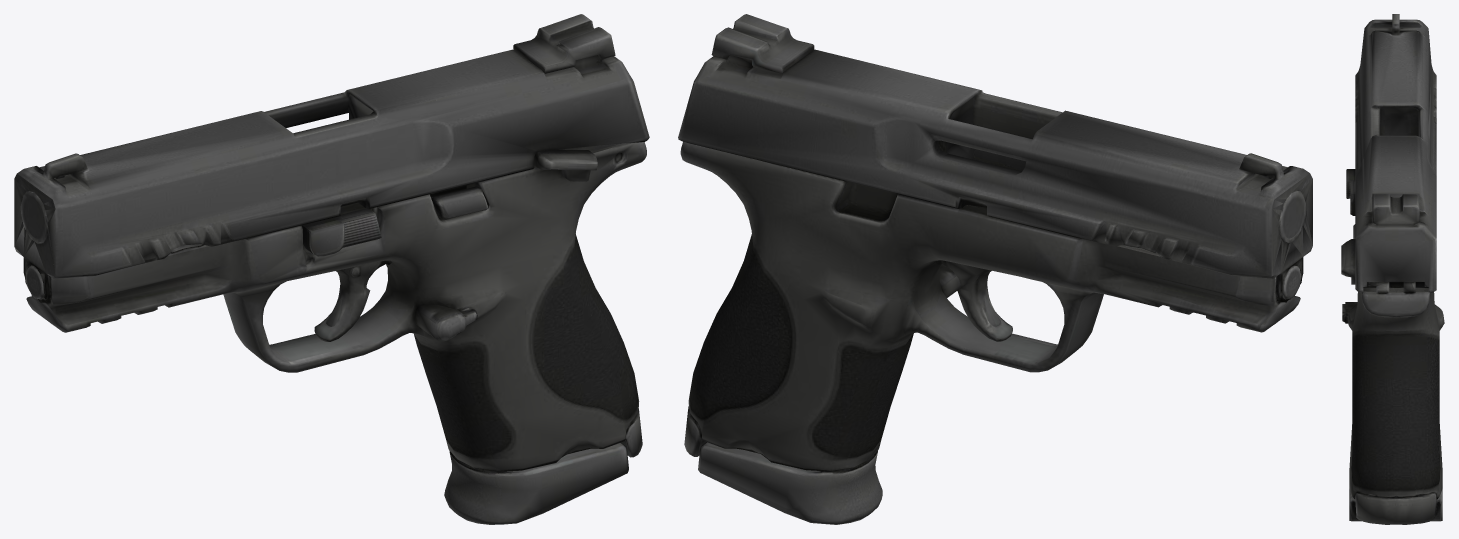
Rendered from pistol.glb.
The picture shows the model from 3 angles, left to right: view 1: azimuth 30°, elevation 25°; view 2: azimuth 150°, elevation 25°; view 3: azimuth 270°, elevation 25°; orthographic projection. The views are drawn at different scales.
Parts seen in each view (by area): view 1: tripo_part_0; view 2: tripo_part_0; view 3: tripo_part_0.
Part boxes in pixels (x1=…): tripo_part_0: x1=14, y1=14, x2=649, y2=524; tripo_part_0: x1=678, y1=14, x2=1312, y2=524; tripo_part_0: x1=1341, y1=14, x2=1444, y2=524.
Size of the model in its own units: 1 by 0.7299 by 0.2016.
Materials: 1 (1 with a texture image).
